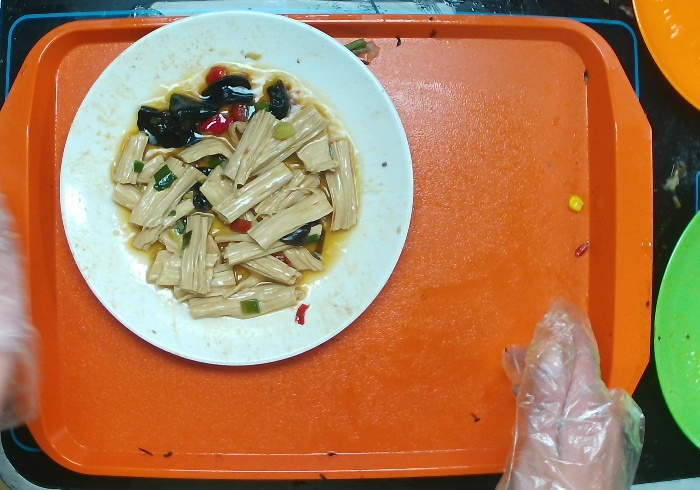HZYJPL-Bai_Se_Yuan_Pan: (53, 5, 419, 373)
